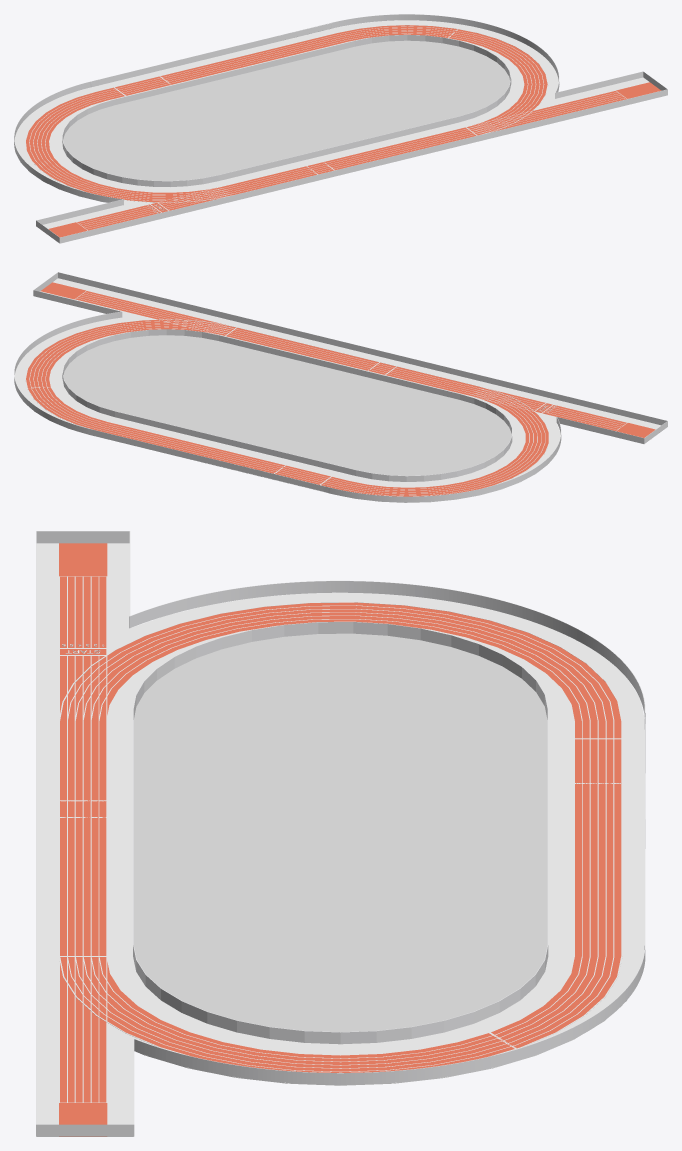
Rendered from piste_course2.glb.
3 views of the same model, one above another, from view 1: azimuth 30°, elevation 25°; view 2: azimuth 150°, elevation 25°; view 3: azimuth 270°, elevation 25° (orthographic). The views are drawn at different scales.
Visible parts, largest first — view 1: VisualSceneNode1.002; view 2: VisualSceneNode1.002; view 3: VisualSceneNode1.002.
Part boxes in pixels (bbox=[...]): VisualSceneNode1.002: bbox=[14, 14, 667, 243]; VisualSceneNode1.002: bbox=[14, 272, 667, 502]; VisualSceneNode1.002: bbox=[36, 531, 645, 1136].
Size of the model in its own units: 217 by 2.13 by 94.1.
